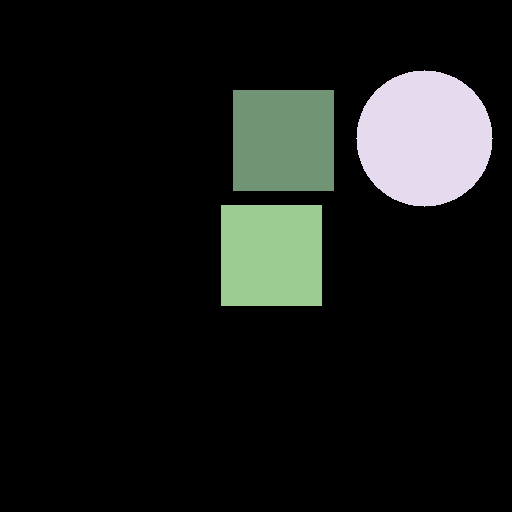circle: (356, 70, 492, 206)
square: (221, 205, 321, 305), (233, 90, 333, 190)
